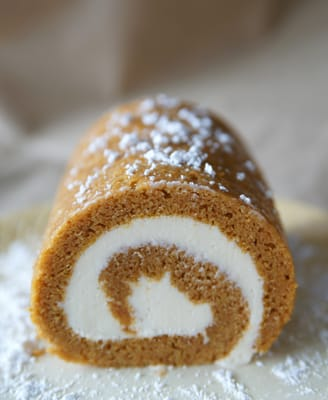salad: (28, 94, 294, 371)
sushi: (31, 94, 298, 376)
